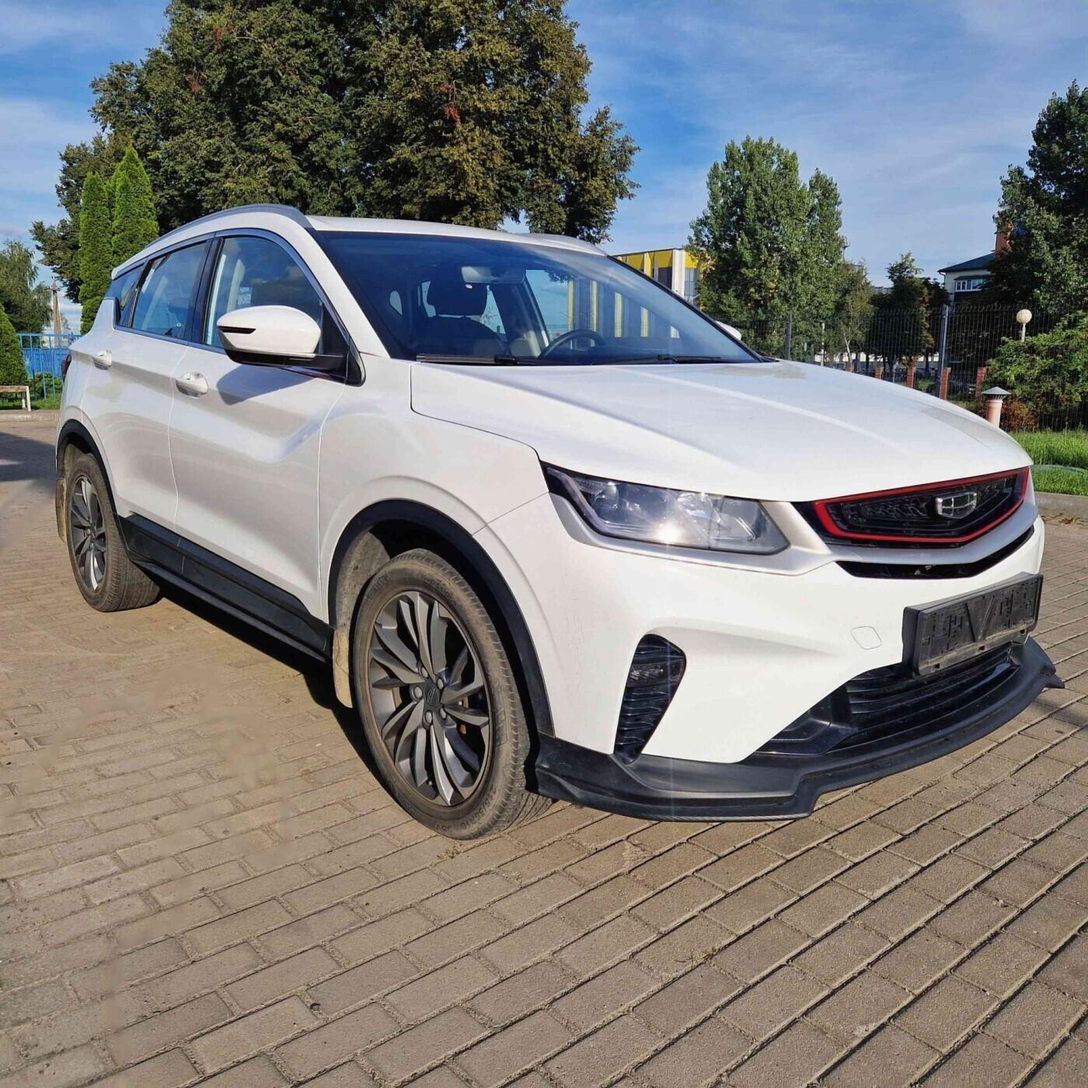Coolray_2019-2023: (48, 197, 1060, 835)
